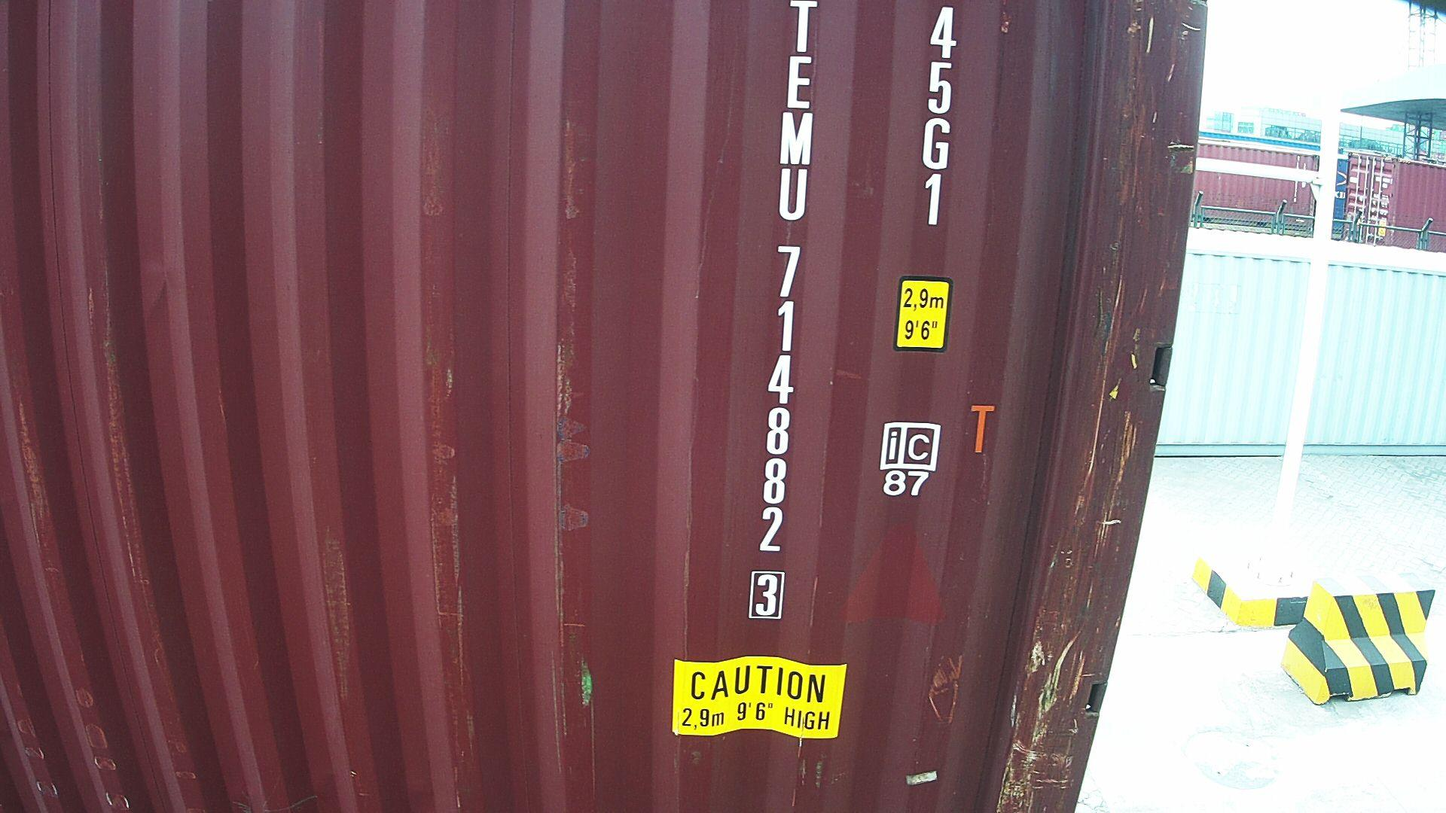container-numbers: (744, 0, 820, 624), (911, 0, 965, 236)
